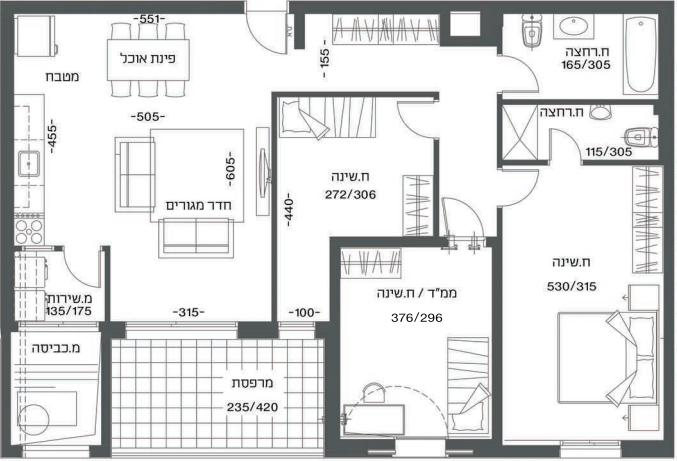door: (230, 20, 292, 63), (504, 164, 544, 211), (504, 51, 543, 96), (392, 99, 430, 144), (58, 255, 103, 292), (545, 122, 583, 156)
wall: (664, 4, 673, 392), (294, 2, 674, 11), (2, 4, 12, 321), (21, 1, 240, 12), (331, 239, 339, 452), (493, 241, 500, 457), (100, 326, 110, 445), (334, 237, 434, 246)
window: (125, 317, 237, 331), (559, 433, 622, 452), (277, 320, 316, 332)
